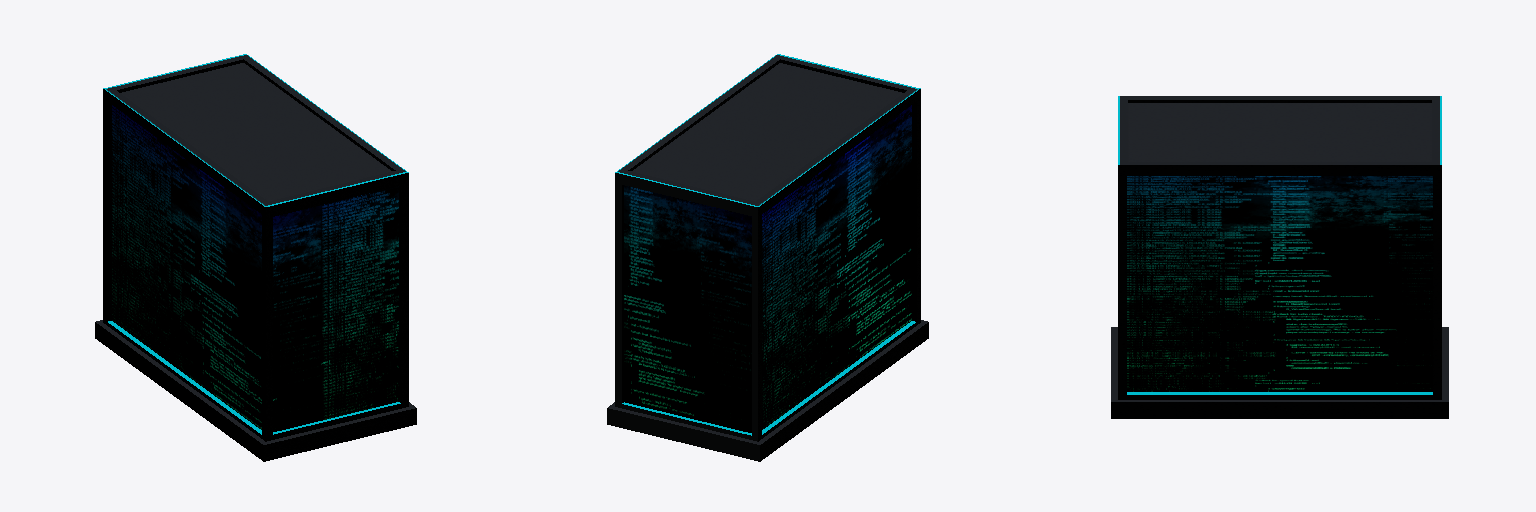
3 views of the same model, side by side, from view 1: azimuth 30°, elevation 25°; view 2: azimuth 150°, elevation 25°; view 3: azimuth 270°, elevation 25° (orthographic).
Parts seen in each view (by area): view 1: Cube.003; view 2: Cube.003; view 3: Cube.003.
Part boxes in pixels (x1,y1,x2,y2): Cube.003: (95, 54, 416, 461); Cube.003: (607, 54, 928, 461); Cube.003: (1111, 96, 1448, 418).
Bounding box in the file's own units: 1.35 × 2.12 × 2.58.
Materials: 4 (1 with a texture image).